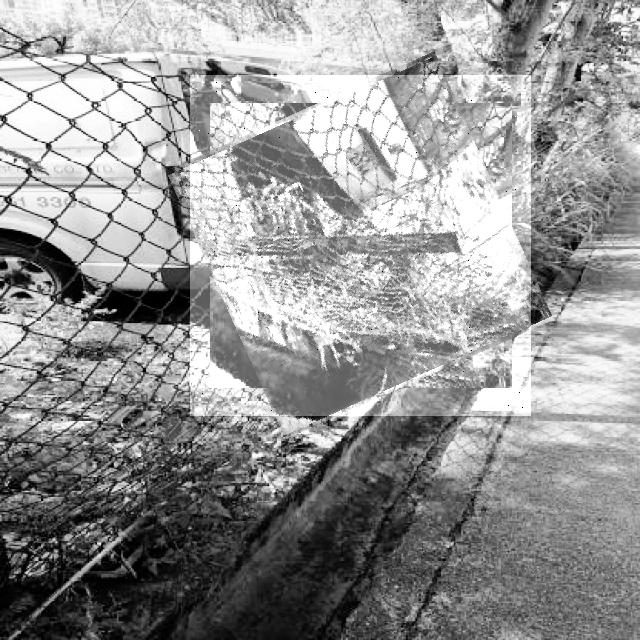anomaly-fence: (190, 75, 531, 416)
